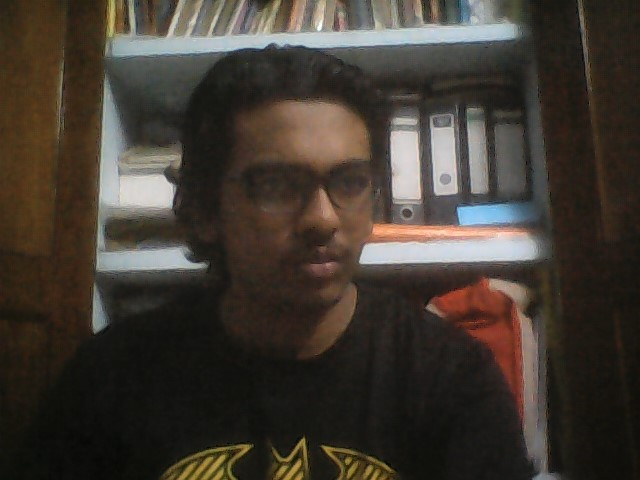person: (30, 44, 516, 480)
